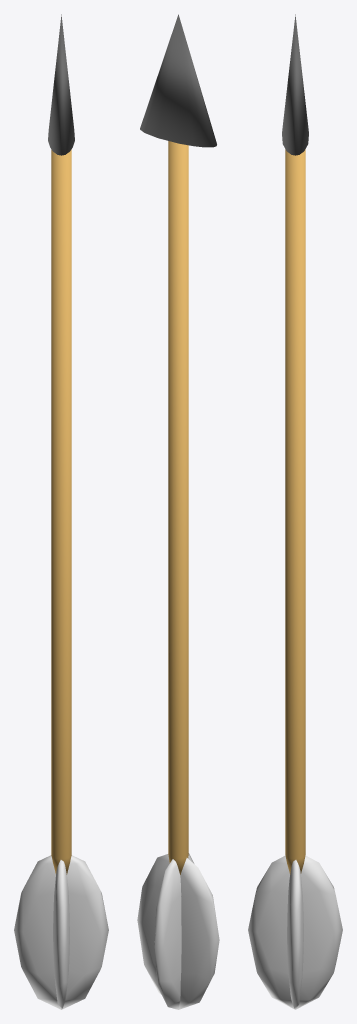
The model's file is arrow.glb.
3 views of the same model, side by side, from view 1: azimuth 90°, elevation 25°; view 2: azimuth 150°, elevation 25°; view 3: azimuth 270°, elevation 25° (orthographic).
Visible parts, largest first — view 1: Shaft, Fletch2, Tip, Fletch1; view 2: Shaft, Fletch1, Tip, Fletch2; view 3: Shaft, Fletch2, Tip, Fletch1.
Part boxes in pixels (bbox=[...]): Shaft: bbox=[51, 149, 71, 874]; Fletch2: bbox=[14, 855, 108, 1009]; Tip: bbox=[48, 14, 74, 155]; Fletch1: bbox=[53, 860, 69, 1009]; Shaft: bbox=[168, 141, 188, 874]; Fletch1: bbox=[137, 854, 219, 1009]; Tip: bbox=[140, 14, 216, 147]; Fletch2: bbox=[154, 853, 194, 1009]; Shaft: bbox=[285, 149, 305, 874]; Fletch2: bbox=[248, 855, 342, 1009]; Tip: bbox=[282, 14, 308, 155]; Fletch1: bbox=[287, 860, 303, 1009].
Size of the model in its own units: 0.1078 by 1.25 by 0.1078.
